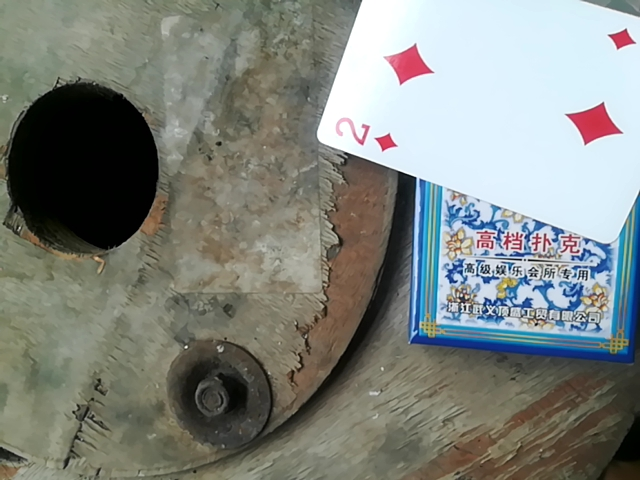fk 2: (309, 1, 638, 249)
